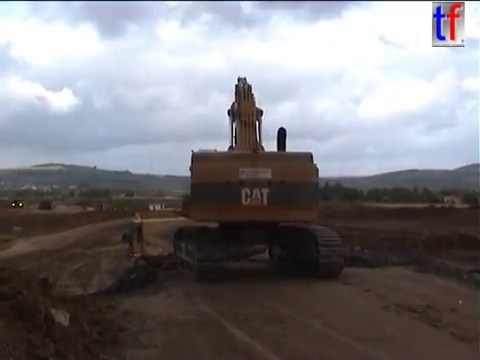truck: (169, 73, 352, 281), (121, 211, 271, 287), (37, 197, 58, 213), (10, 195, 25, 210)
